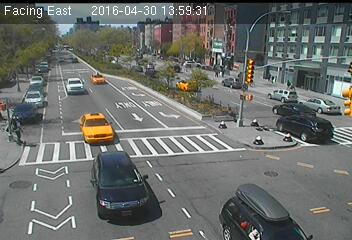neg: (54, 166, 97, 224), (115, 172, 152, 221), (203, 80, 236, 124), (238, 115, 268, 156), (33, 67, 61, 105), (59, 88, 87, 125), (9, 51, 33, 82), (142, 110, 165, 142), (253, 6, 276, 36), (168, 55, 190, 84), (210, 31, 232, 60), (16, 2, 37, 29), (50, 5, 68, 29), (150, 3, 167, 26), (118, 50, 134, 72), (70, 58, 86, 79), (105, 12, 117, 29)
pos: (8, 120, 30, 149), (284, 78, 294, 91)
